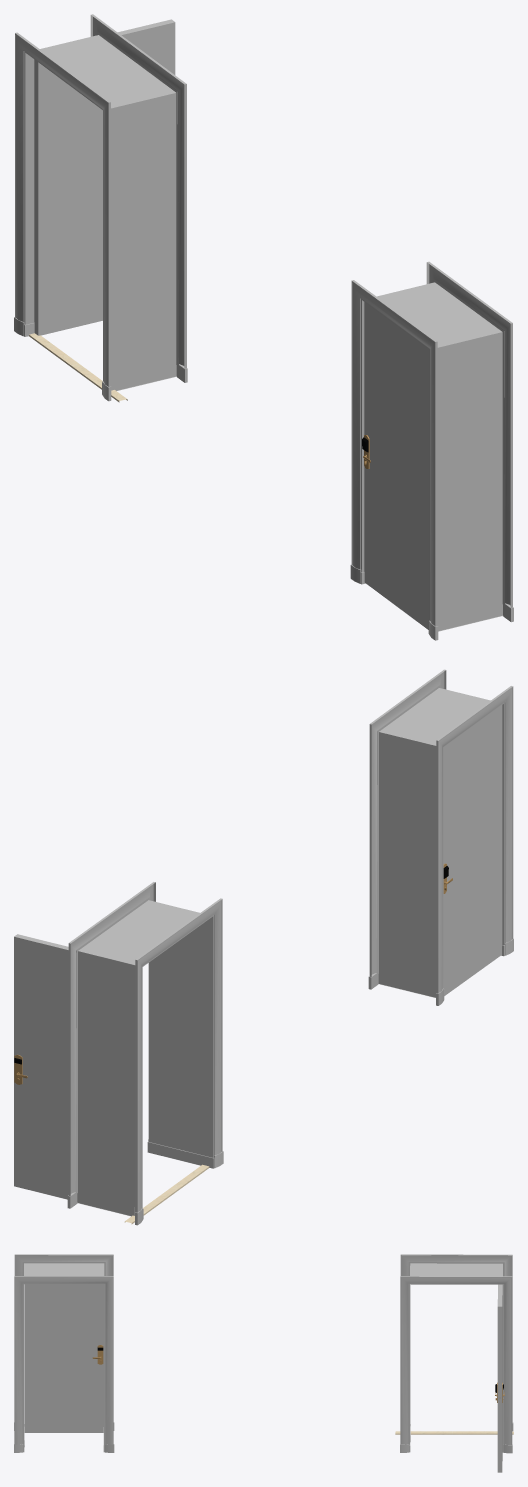
File: SCP_Door_Scene3.fbx
3 renders of one model, top to bottom at view 1: azimuth 30°, elevation 25°; view 2: azimuth 150°, elevation 25°; view 3: azimuth 270°, elevation 25°, orthographic. The views are drawn at different scales.
Parts seen in each view (by area): view 1: polySurface167, polySurface134; view 2: polySurface167, polySurface134; view 3: polySurface167, polySurface134.
Boxes of the visible parts, bbox=[...] form: polySurface167: bbox=[14, 14, 513, 640]; polySurface134: bbox=[34, 19, 175, 335]; polySurface167: bbox=[67, 669, 513, 1225]; polySurface134: bbox=[14, 934, 134, 1215]; polySurface167: bbox=[14, 1254, 513, 1453]; polySurface134: bbox=[495, 1284, 504, 1472].
Size of the model in its own units: 122 by 231 by 593.
